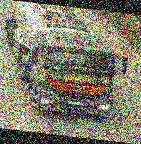truck: (0, 0, 122, 118)
